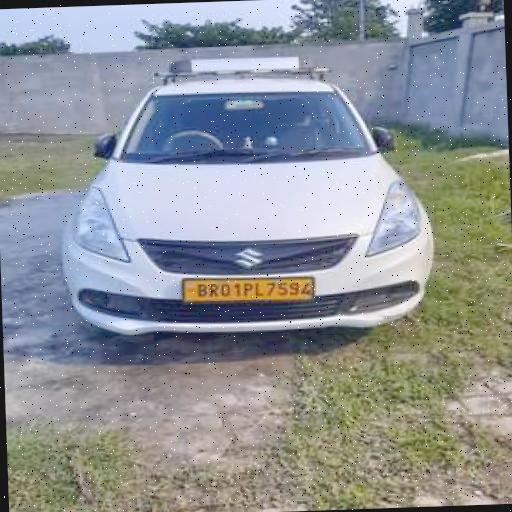license_plate`: (181, 273, 312, 302)
